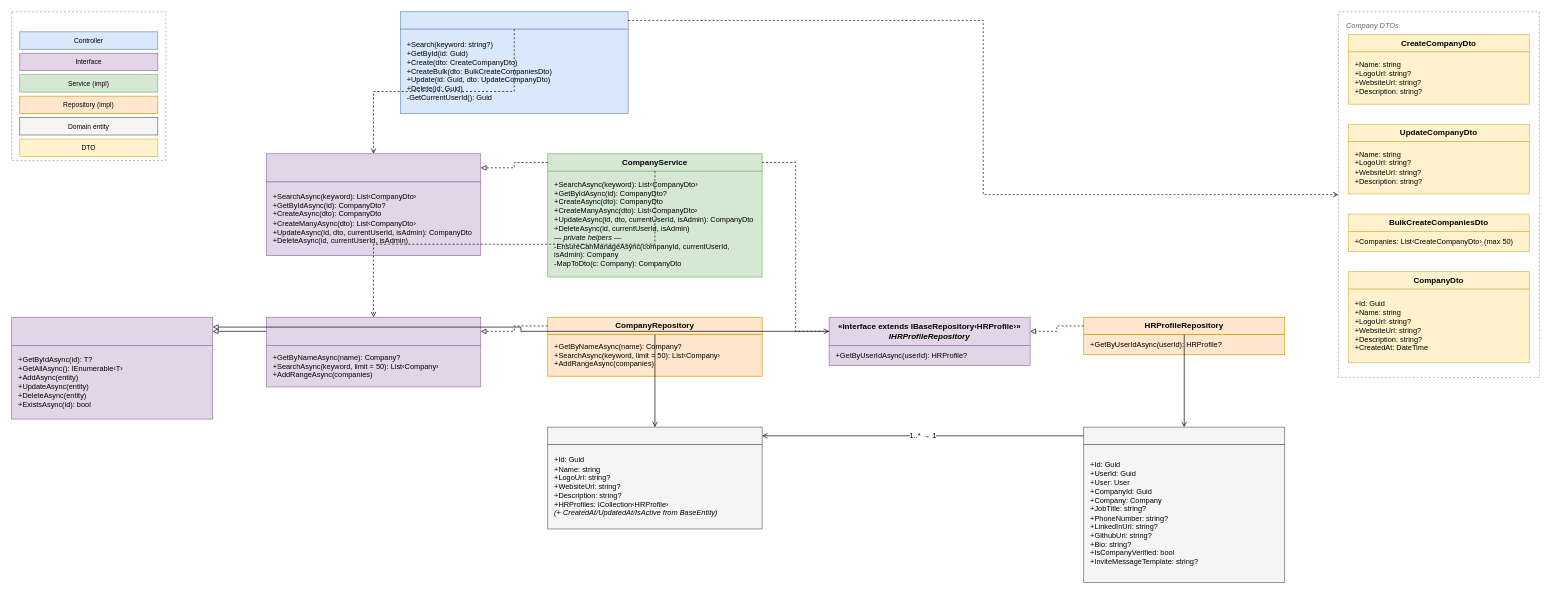
Image size: 1551x594. Some labels were removed from this diagram. Here are the shapes that lost their labels. From the top down, the box of each, then its label:
(400, 11, 628, 29): CompanyController
(11, 11, 166, 160): Legend
(266, 153, 481, 182): «interface» ICompanyService
(11, 317, 213, 345): «interface» IBaseRepository‹T›
(266, 317, 481, 345): «interface extends IBaseRepository‹Company›» ICompanyRepository
(547, 426, 762, 445): Company
(1083, 426, 1285, 445): HRProfile
